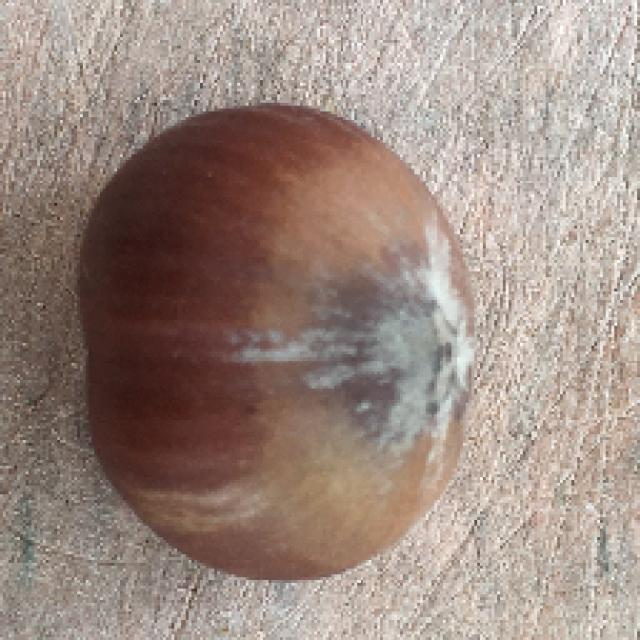qualityHazelnut: (73, 102, 484, 582)
